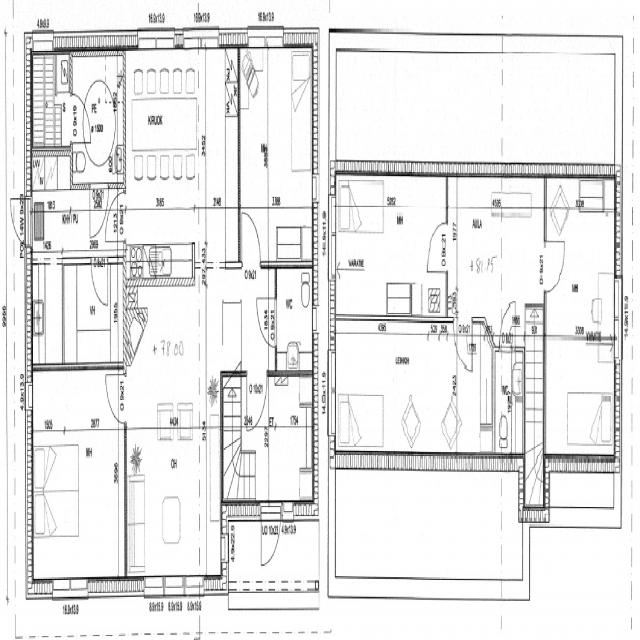door: (261, 501, 280, 571), (246, 371, 266, 430), (8, 198, 32, 243), (453, 314, 472, 370), (105, 374, 126, 423), (256, 299, 277, 348), (105, 193, 126, 241), (90, 183, 108, 239), (242, 212, 260, 268), (70, 94, 90, 144), (544, 241, 564, 290), (428, 224, 448, 272), (91, 258, 108, 308), (499, 304, 515, 352)
